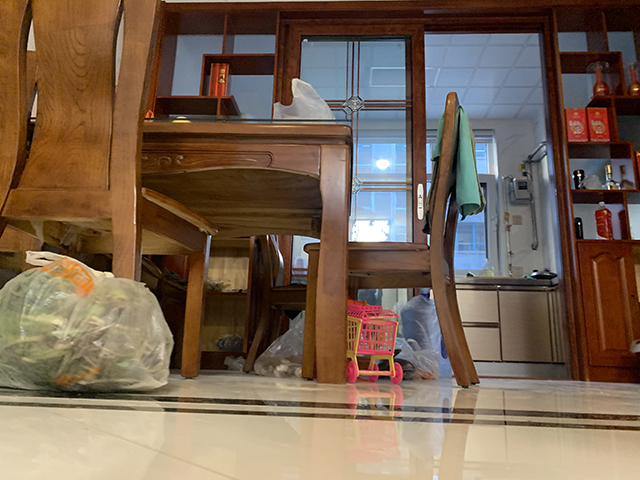cabinet: (454, 275, 568, 380), (574, 236, 640, 384)
stool: (1, 1, 218, 378), (302, 91, 481, 389)
table: (146, 116, 354, 386)
